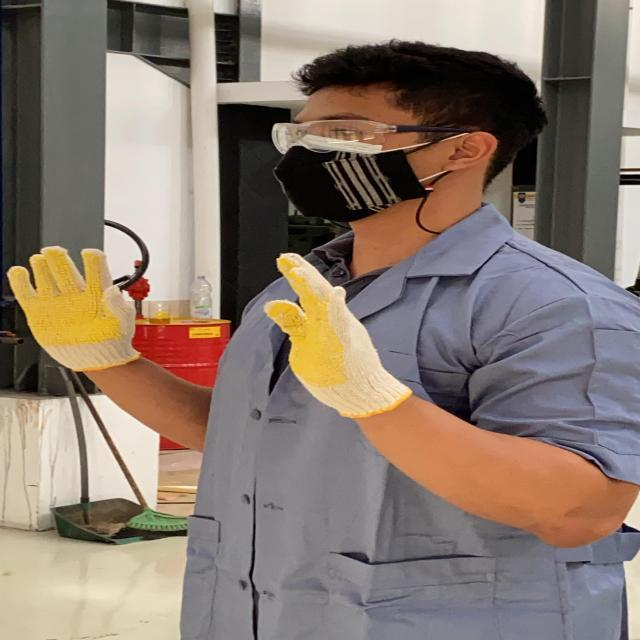glasses: (261, 114, 484, 154)
